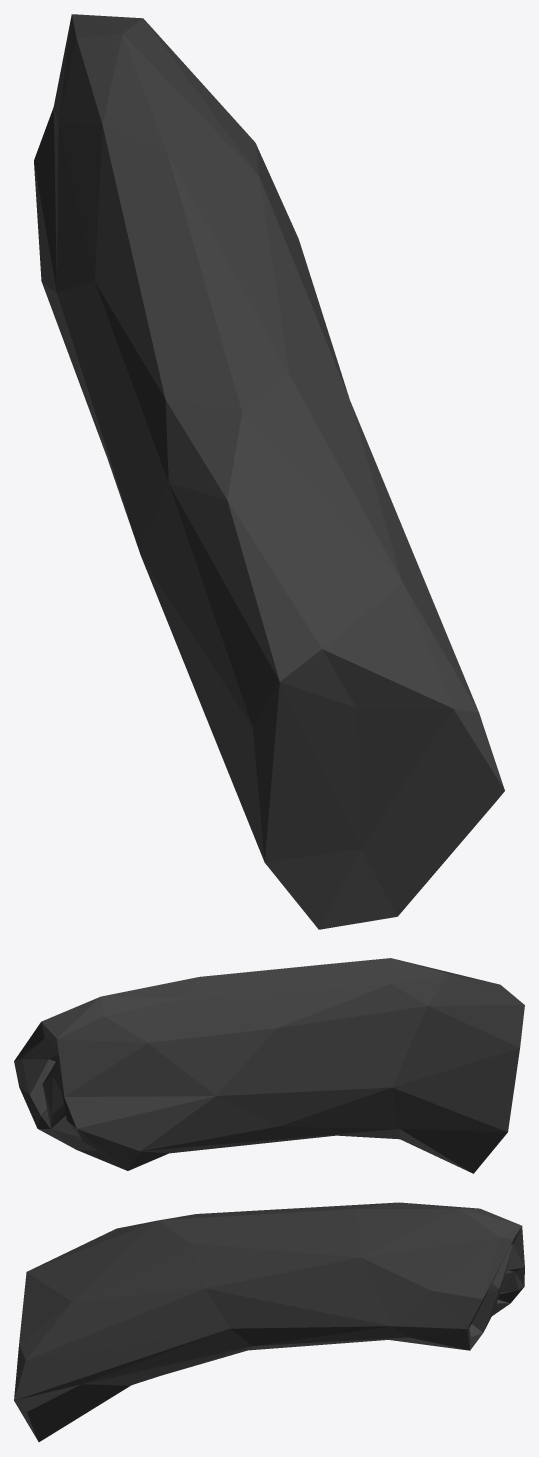
3 views of the same model, one above another, from view 1: azimuth 30°, elevation 25°; view 2: azimuth 150°, elevation 25°; view 3: azimuth 270°, elevation 25° (orthographic). The views are drawn at different scales.
Visible parts, largest first — view 1: world; view 2: world; view 3: world.
Part boxes in pixels (bbox=[...]): world: bbox=[34, 14, 504, 929]; world: bbox=[14, 958, 524, 1173]; world: bbox=[14, 1202, 524, 1441].
Bounding box in the file's own units: 0.1765 × 0.2215 × 0.3771.
Materials: 1 (1 with a texture image).
